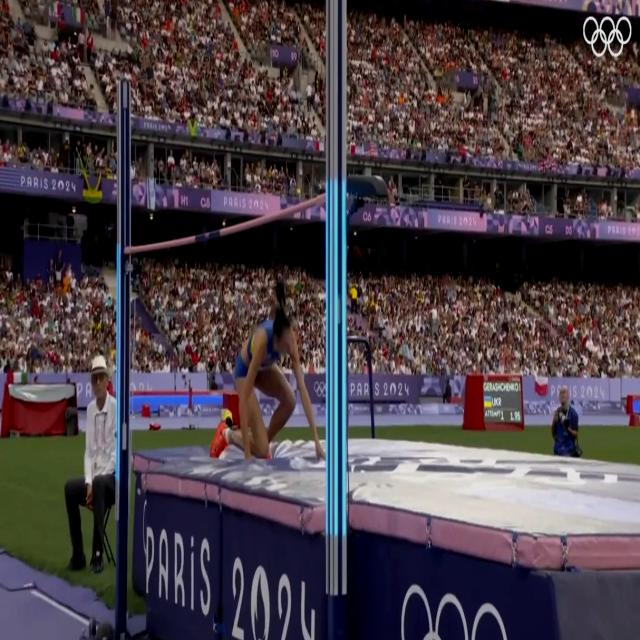land: (208, 314, 324, 468)
